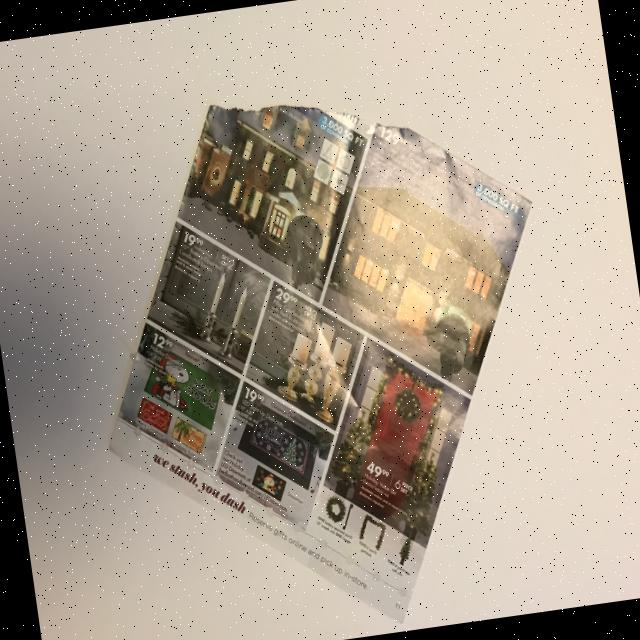paper: (63, 61, 589, 640)
